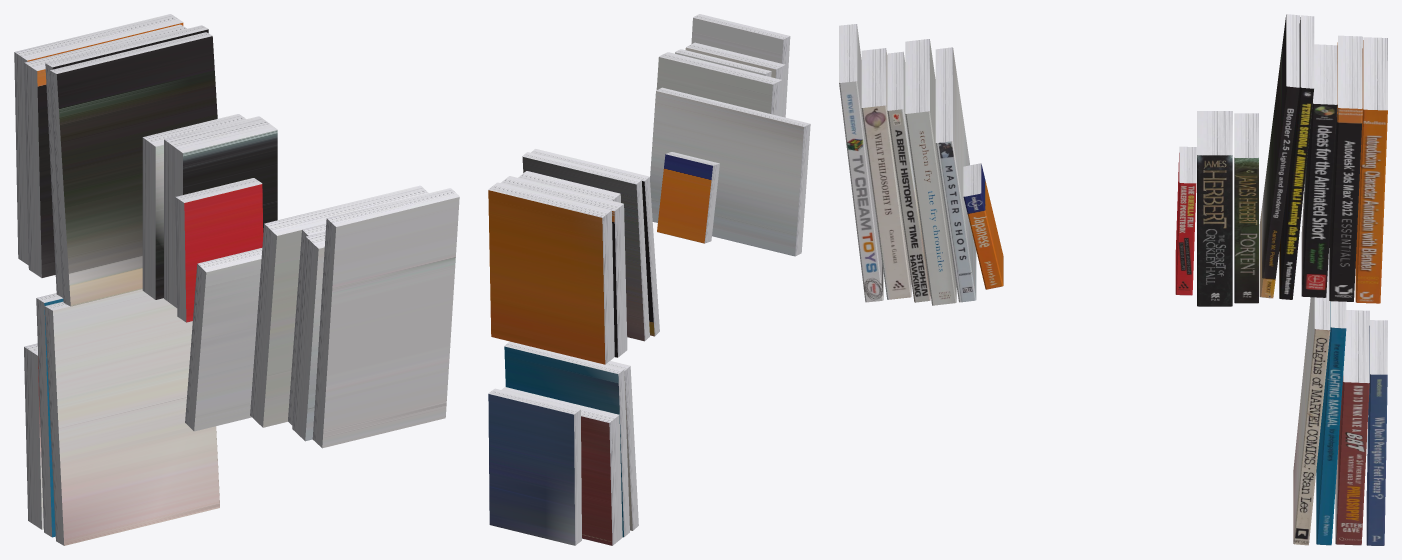
Rendered from books.glb.
3 renders of one model, left to right at view 1: azimuth 30°, elevation 25°; view 2: azimuth 150°, elevation 25°; view 3: azimuth 270°, elevation 25°, orthographic. The views are drawn at different scales.
Visible parts, largest first — view 1: Books_0001; view 2: Books_0001; view 3: Books_0001.
Part boxes in pixels (x1,y1,x2,y2): Books_0001: [14, 14, 459, 545]; Books_0001: [488, 14, 810, 545]; Books_0001: [839, 14, 1387, 545].
Size of the model in its own units: 0.2335 by 0.5175 by 0.5541.
1 material, 1 textured.
